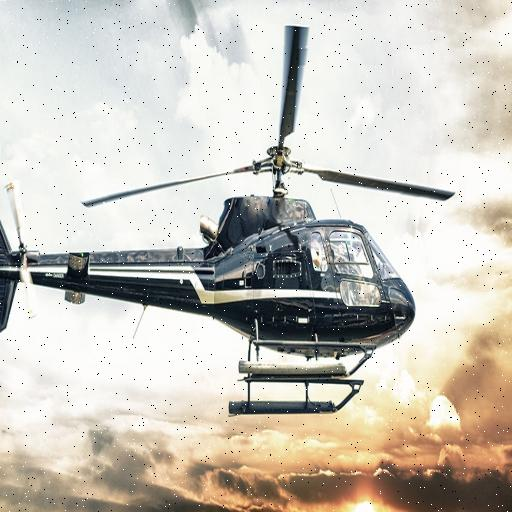helicopter: (1, 21, 463, 426)
